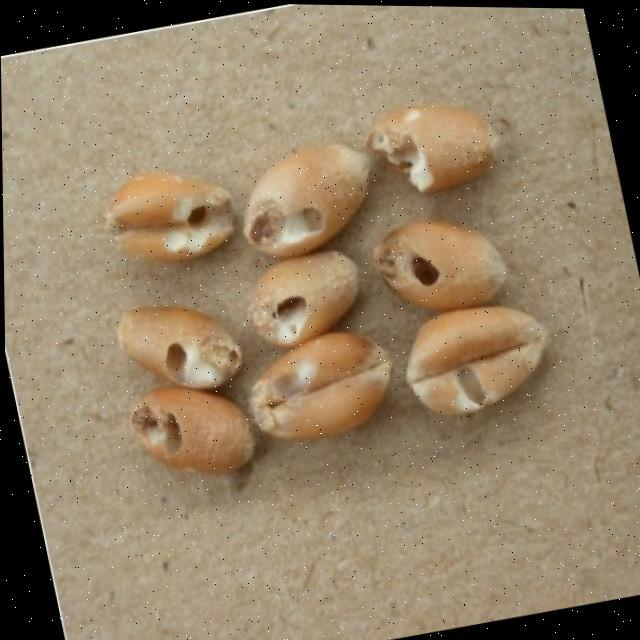wheat_grain: (406, 305, 548, 414), (245, 145, 370, 256), (364, 103, 498, 193), (374, 220, 507, 309), (106, 171, 234, 261), (131, 384, 258, 473), (247, 251, 358, 349), (119, 304, 242, 389)
